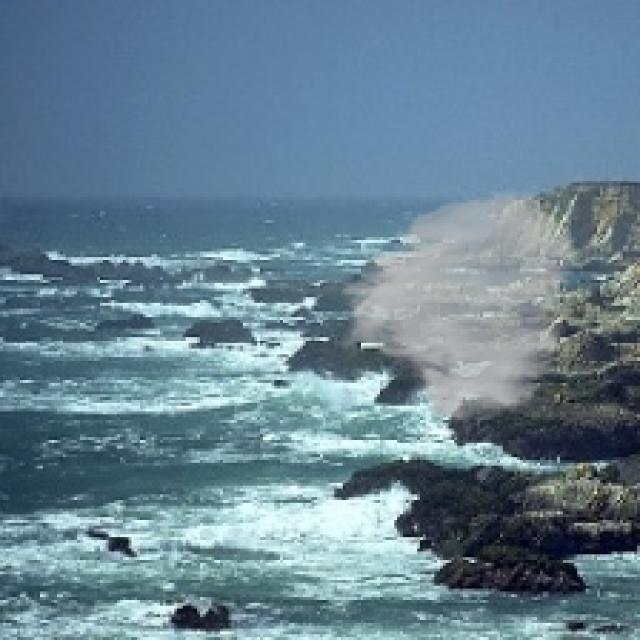Smoke: (334, 188, 583, 426)
